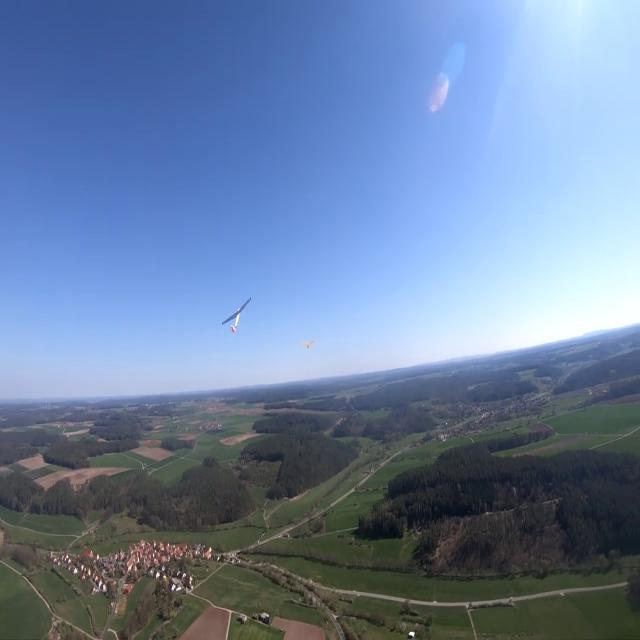iha: (222, 298, 252, 332), (299, 341, 316, 344)
